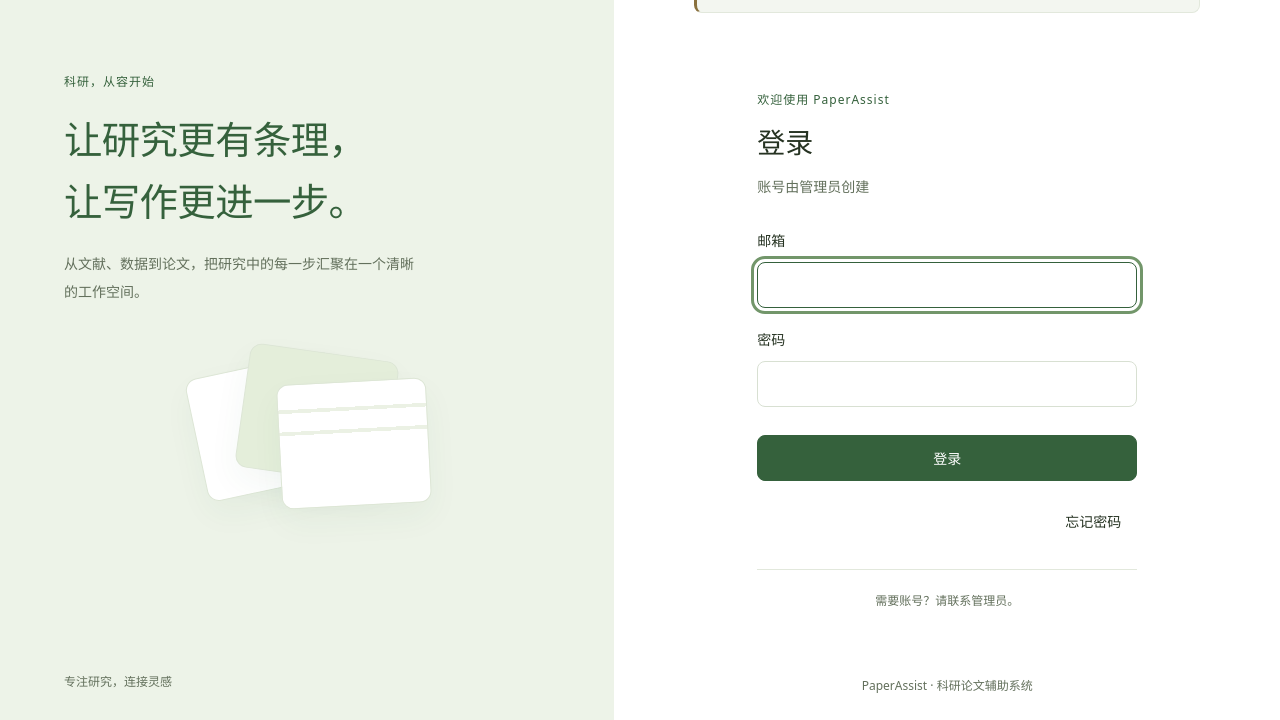
Test: shows connection failure and allows retry without claiming success
(page scrolled)
Click the button "忘记密码": (1093, 521) [1049,501,1137,541]
(page scrolled)
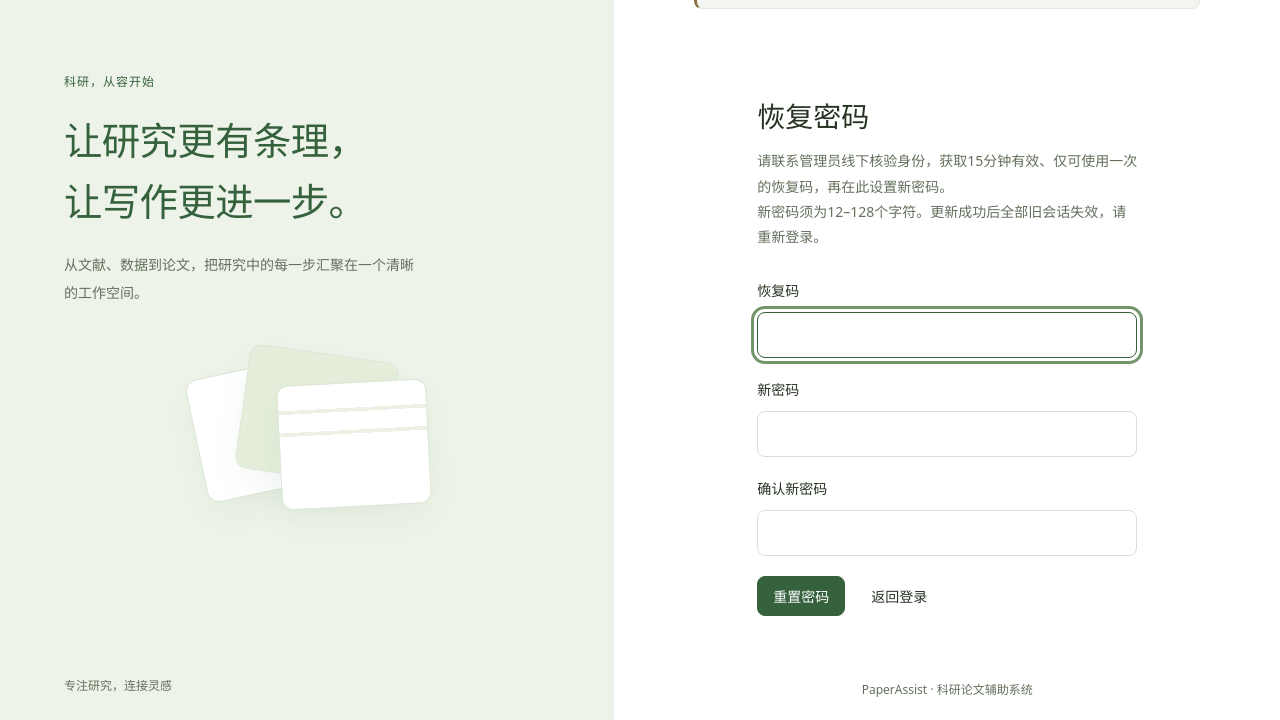
In the password field labelled "恢复码": (947, 335) [757,312,1137,358], type "one-use-code"
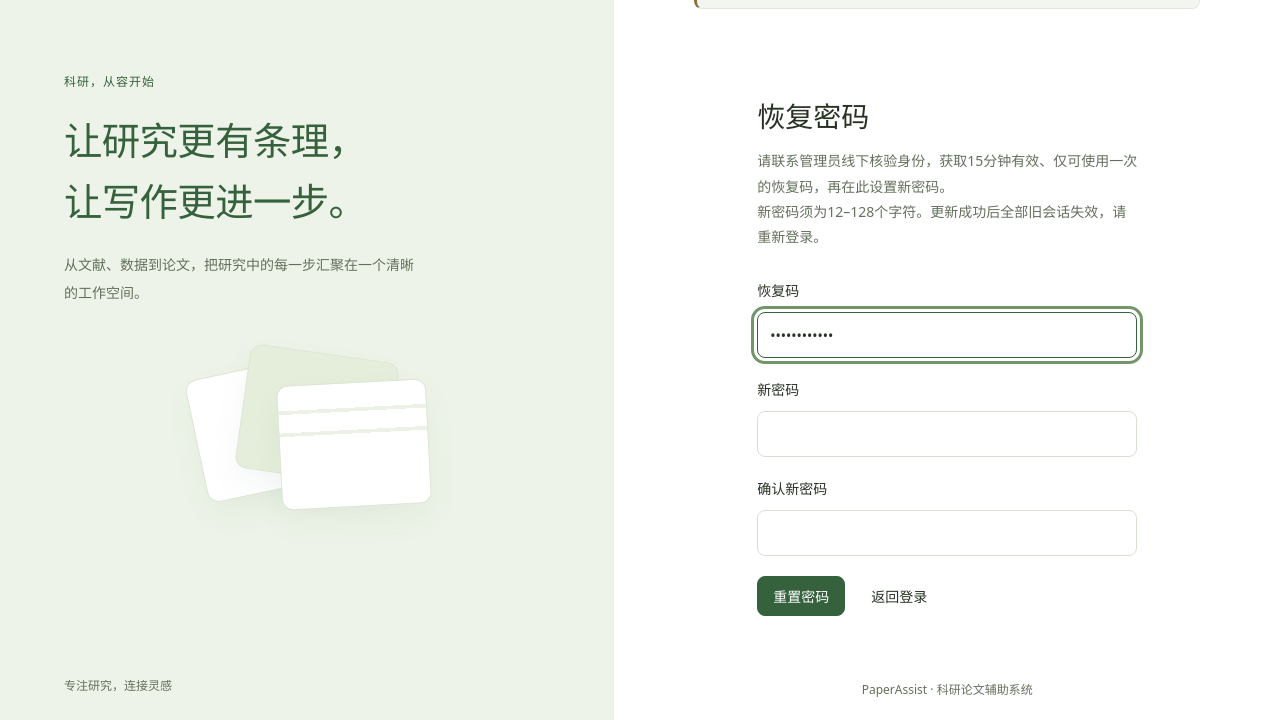
In the password field labelled "新密码": (947, 434) [757,411,1137,457], type "new-password-123"
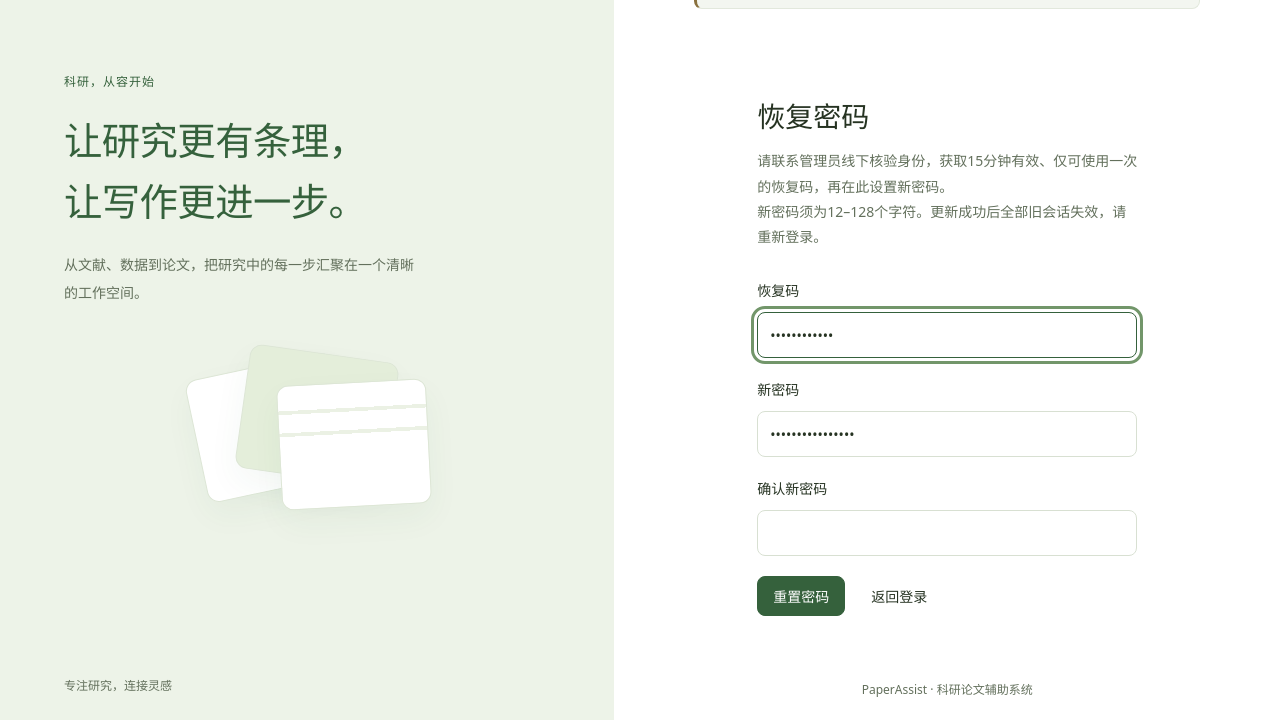
In the password field labelled "确认新密码": (947, 534) [757,510,1137,556], type "new-password-123"
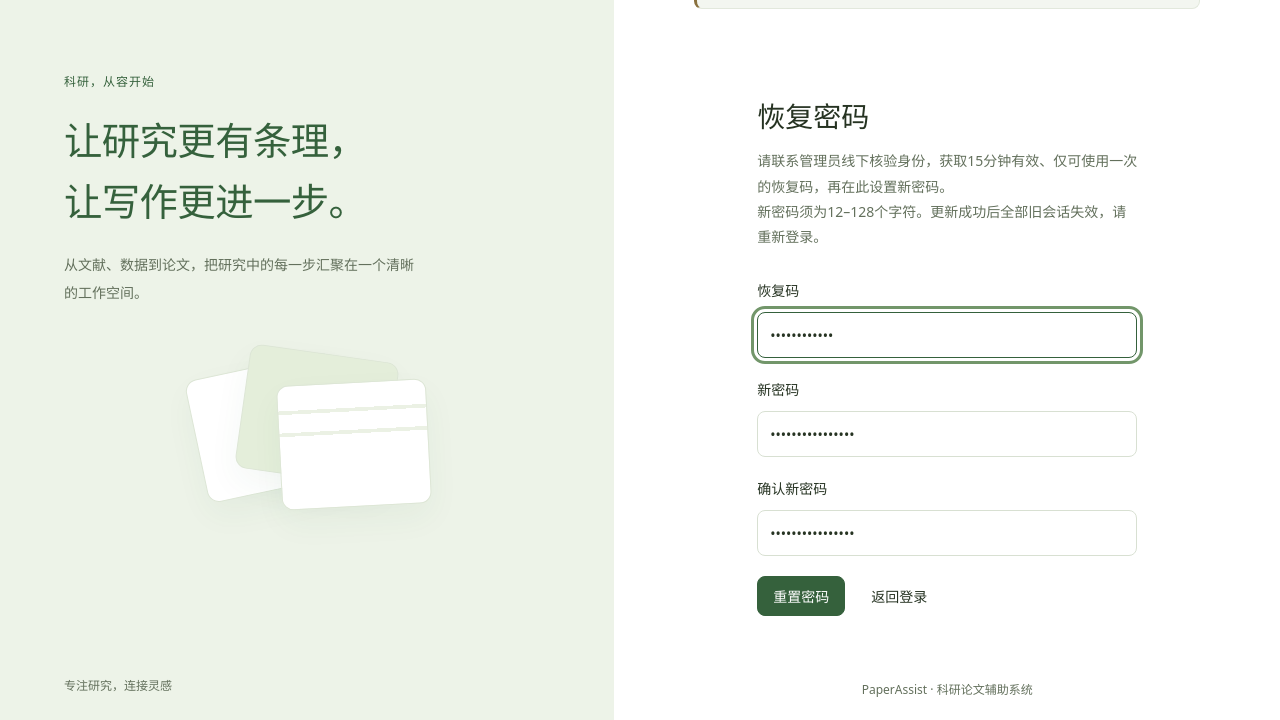
Submit the form labelled "新密码", box [757,279,1137,616]
(page scrolled)
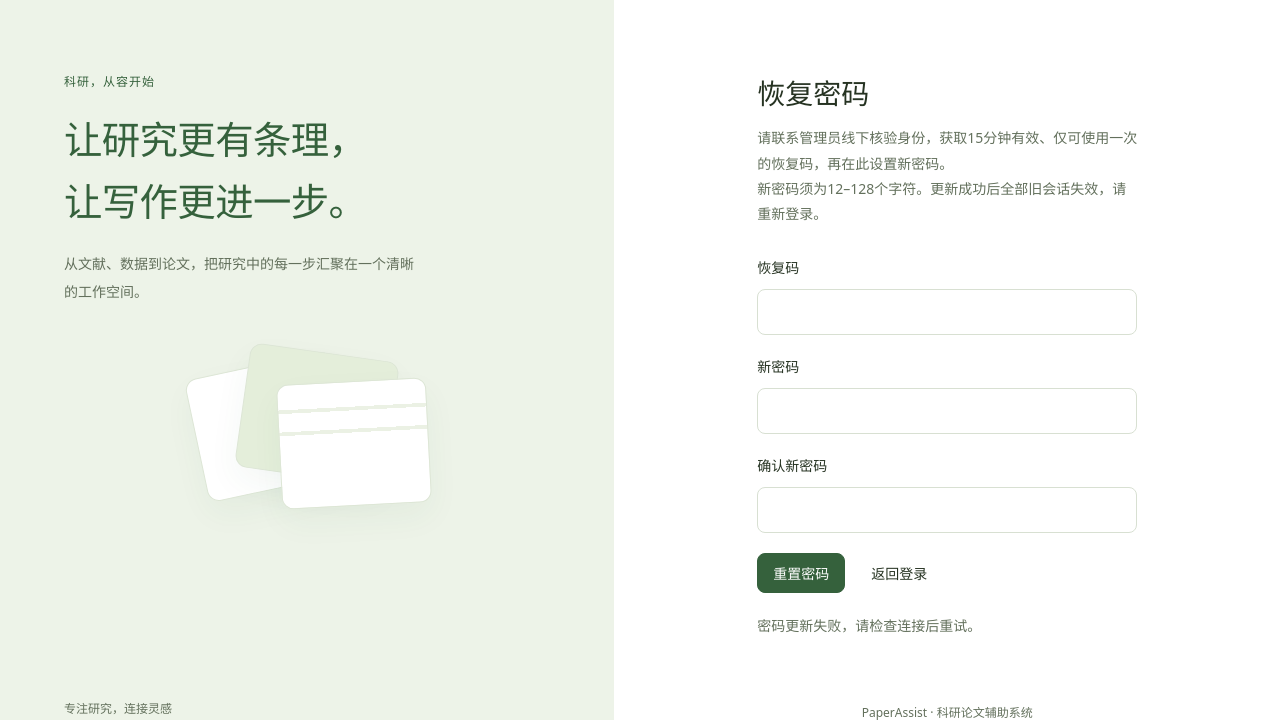
Check: the button "重置密码" is enabled, box [757,554,845,594]
Check: the message shows "检查连接", box [757,616,981,636]
